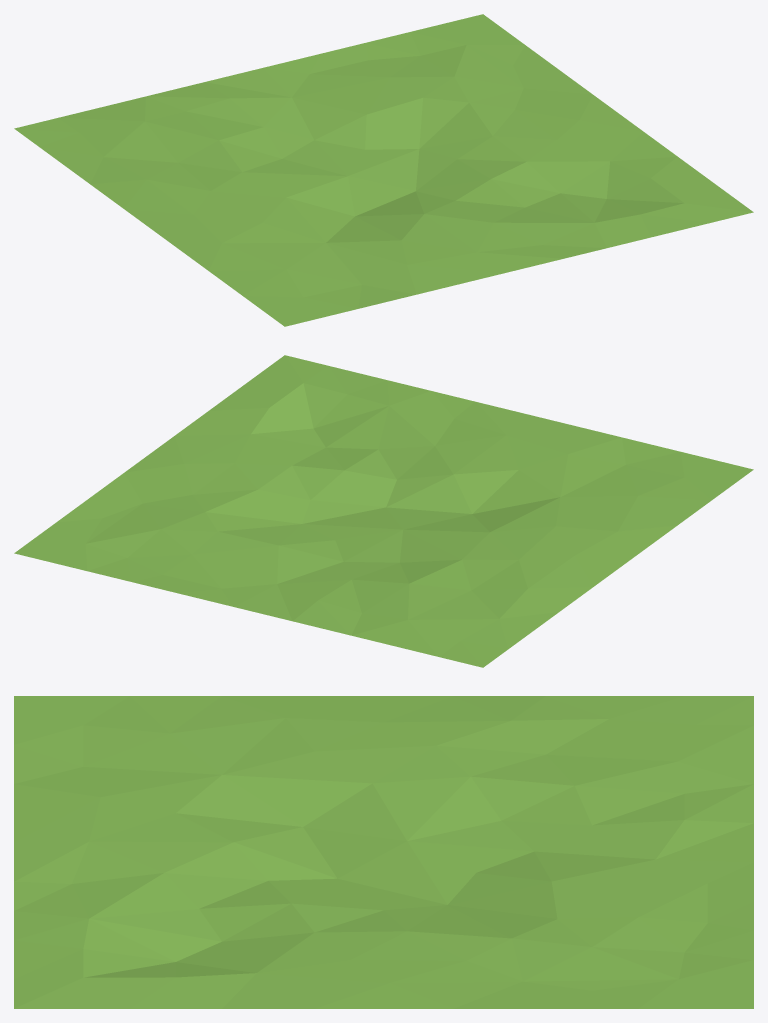
File: MT_Terrain_S_b_04_LOD.fbx
The picture shows the model from 3 angles, top to bottom: view 1: azimuth 30°, elevation 25°; view 2: azimuth 150°, elevation 25°; view 3: azimuth 270°, elevation 25°; orthographic projection. The views are drawn at different scales.
Visible parts, largest first — view 1: MT_Terrain_S_b_04_LOD0; view 2: MT_Terrain_S_b_04_LOD0; view 3: MT_Terrain_S_b_04_LOD0.
Part boxes in pixels (<box>): MT_Terrain_S_b_04_LOD0: <box>14,14,753,326</box>; MT_Terrain_S_b_04_LOD0: <box>14,355,753,667</box>; MT_Terrain_S_b_04_LOD0: <box>14,696,753,1008</box>.
Size of what is drawn, in the model's own units: 2500 by 78.18 by 2500.
